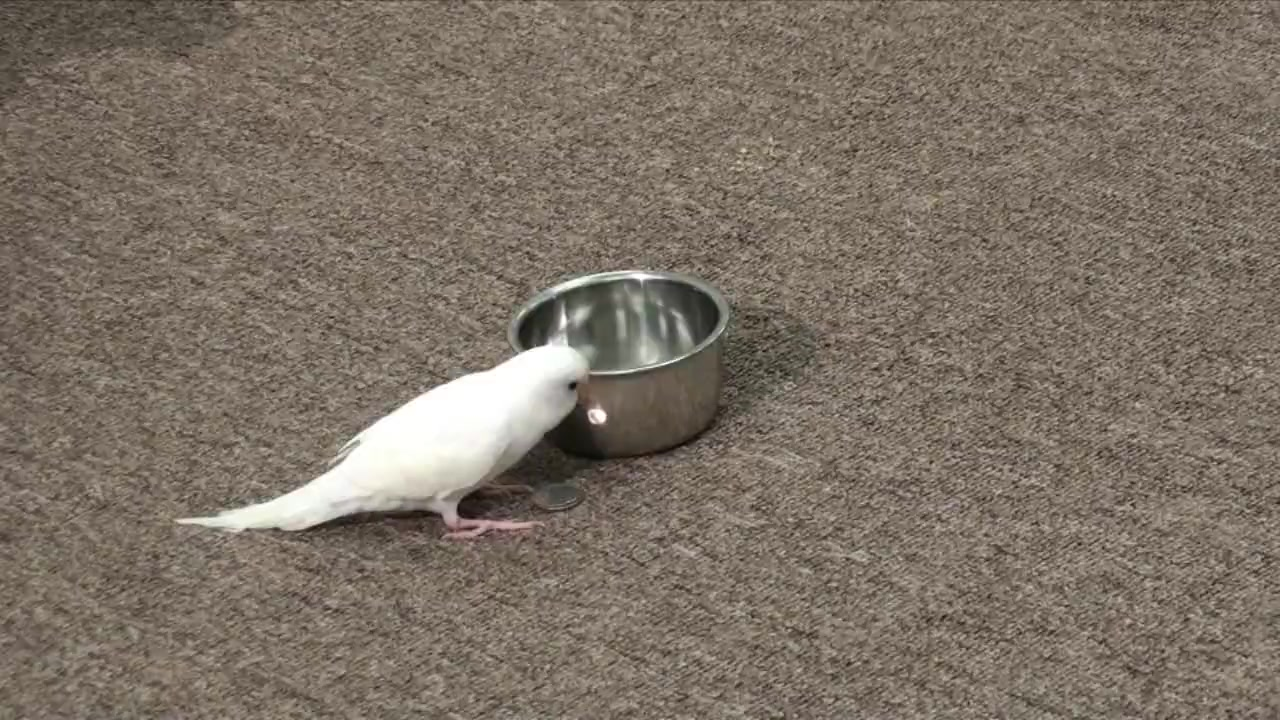bird: (175, 345, 592, 543)
